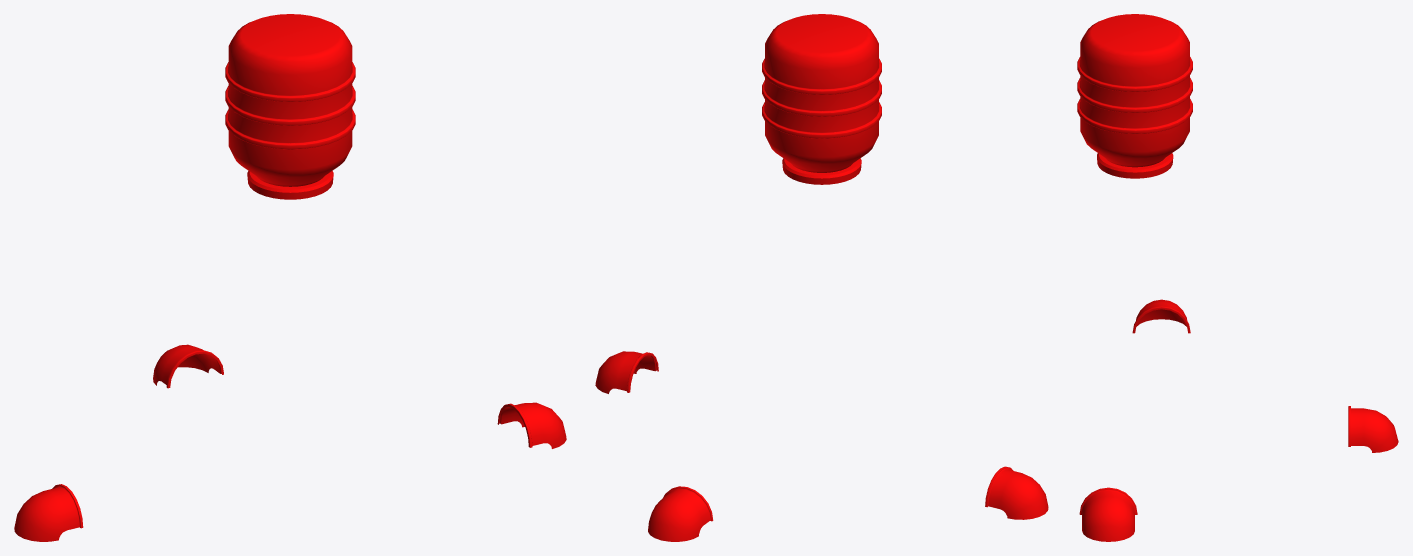
The model's file is Watertower_V2.fbx.
3 renders of one model, left to right at view 1: azimuth 30°, elevation 25°; view 2: azimuth 150°, elevation 25°; view 3: azimuth 270°, elevation 25°, orthographic. The views are drawn at different scales.
Visible parts, largest first — view 1: polySurface1363; view 2: polySurface1363; view 3: polySurface1363.
Part boxes in pixels (x1,y1,x2,y2): polySurface1363: (14,14,566,541); polySurface1363: (595,14,1048,541); polySurface1363: (1077,14,1398,541).
Bounding box in the file's own units: 1.97 × 1.64 × 1.2.
